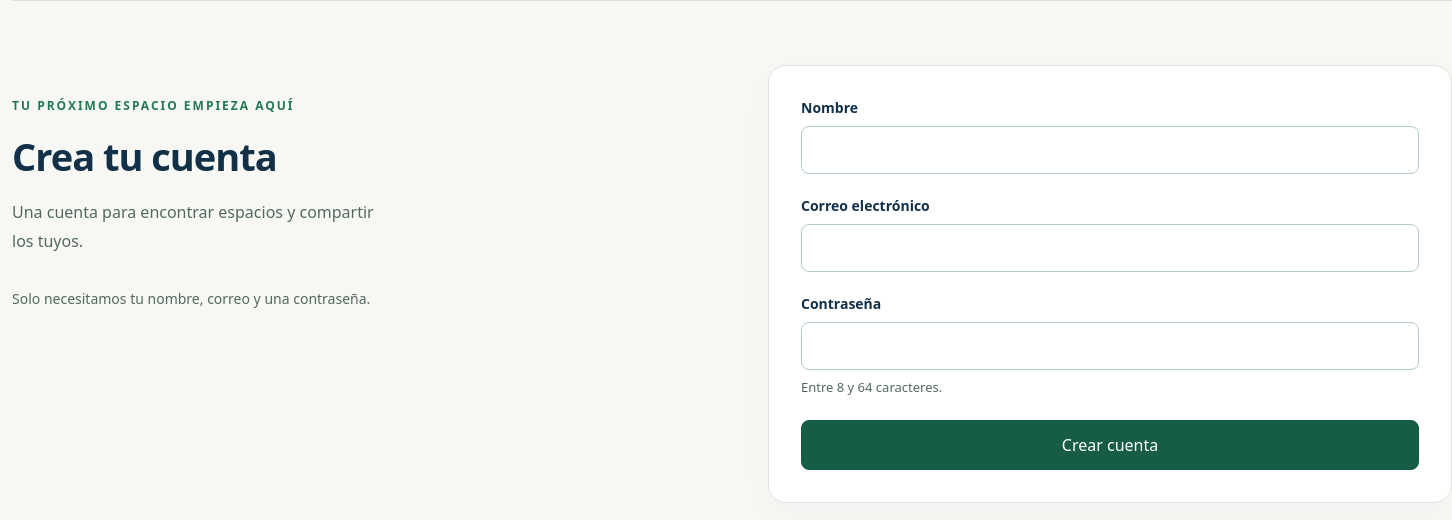
Scenario: CP-01: confirma el registro válido en el formulario
The width and height of the screenshot is (1452, 520).
Step 1. Type "Jorge Aceval" into the field labelled "Nombre" → (1110, 150), box [801,126,1419,174]
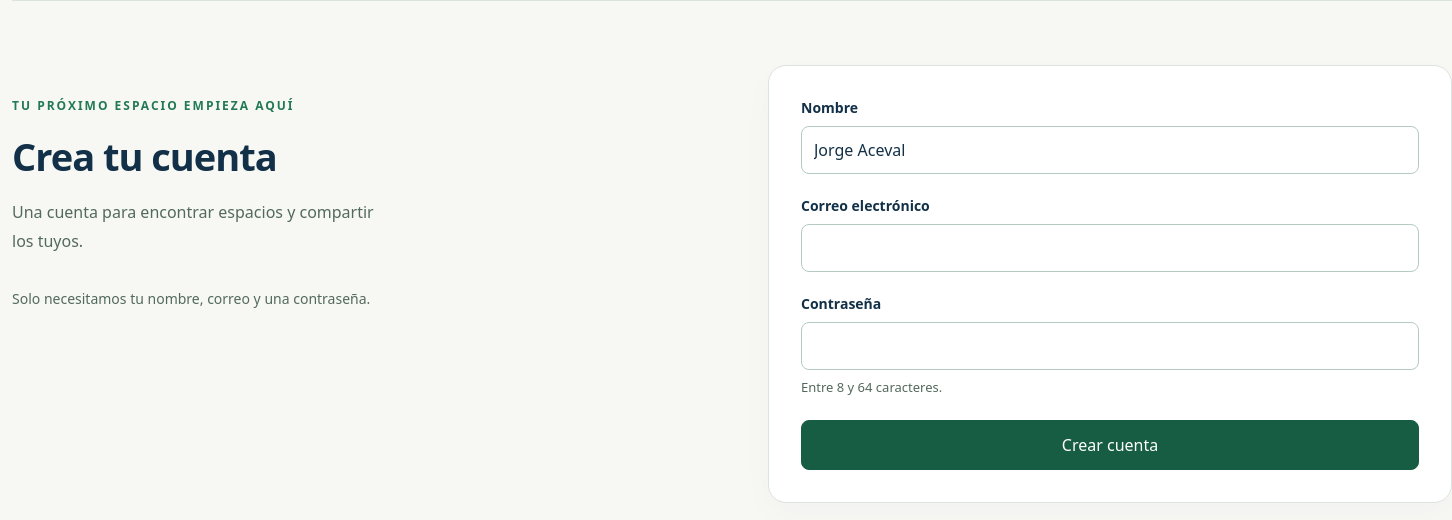
Step 2. Type "jorge@example.com" into the field labelled "Correo electrónico" → (1110, 248), box [801,224,1419,272]
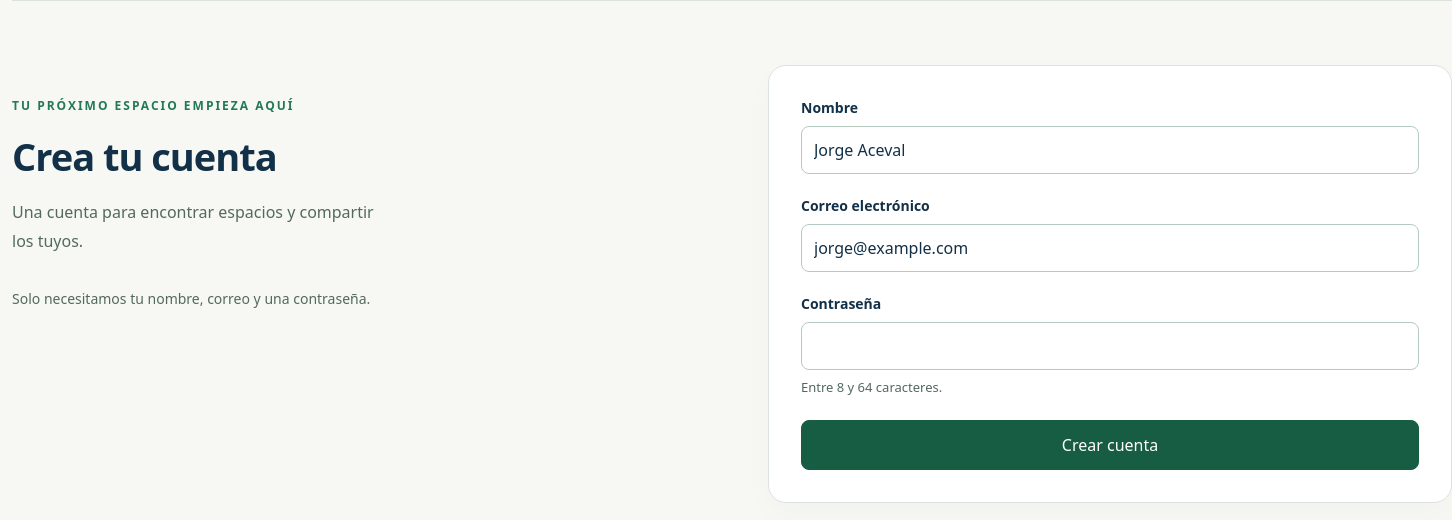
Step 3. Type "Clave de prueba 2026!" into the password field labelled "Contraseña" → (1110, 346), box [801,322,1419,370]
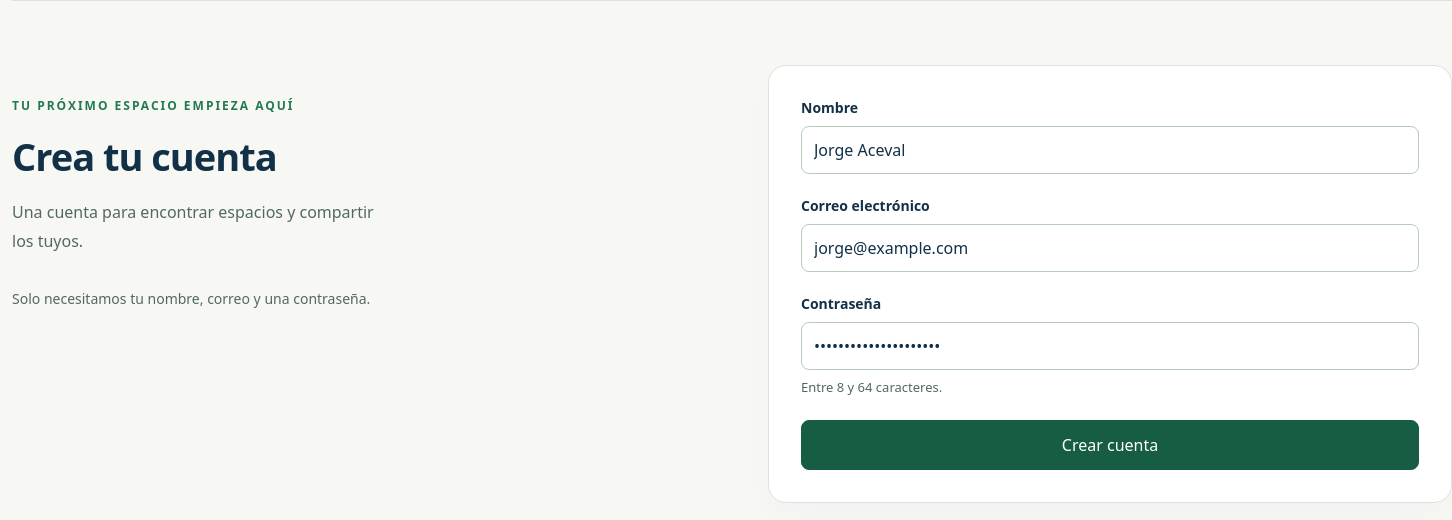
Step 4. Click the button "Crear cuenta" → click(1110, 444), box [801,420,1419,470]
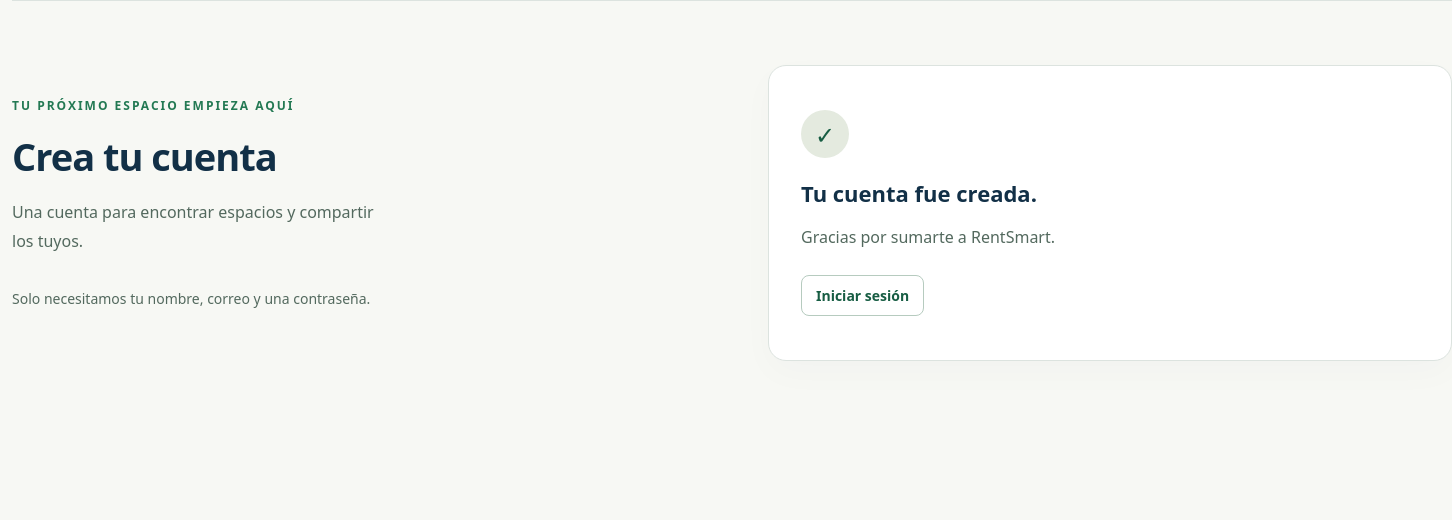
Now the heading "Tu cuenta fue creada." is shown, box [801,178,1037,208]
Now the button "Crear cuenta" is gone
